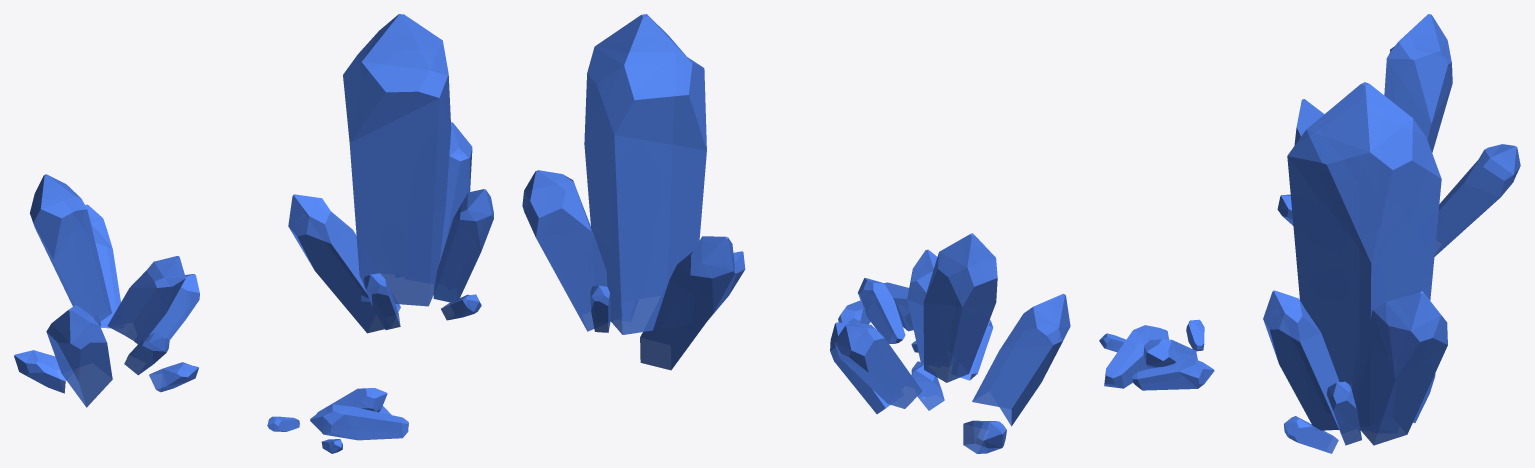
Rendered from crystal_06.glb.
3 views of the same model, side by side, from view 1: azimuth 30°, elevation 25°; view 2: azimuth 150°, elevation 25°; view 3: azimuth 270°, elevation 25° (orthographic). The views are drawn at different scales.
Parts seen in each view (by area): view 1: crystal_06; view 2: crystal_06; view 3: crystal_06.
Part boxes in pixels (x1,y1,x2,y2): crystal_06: (14, 14, 493, 453); crystal_06: (522, 14, 1070, 453); crystal_06: (1099, 14, 1520, 453).
Size of the model in its own units: 1.68 by 1.13 by 1.16.
